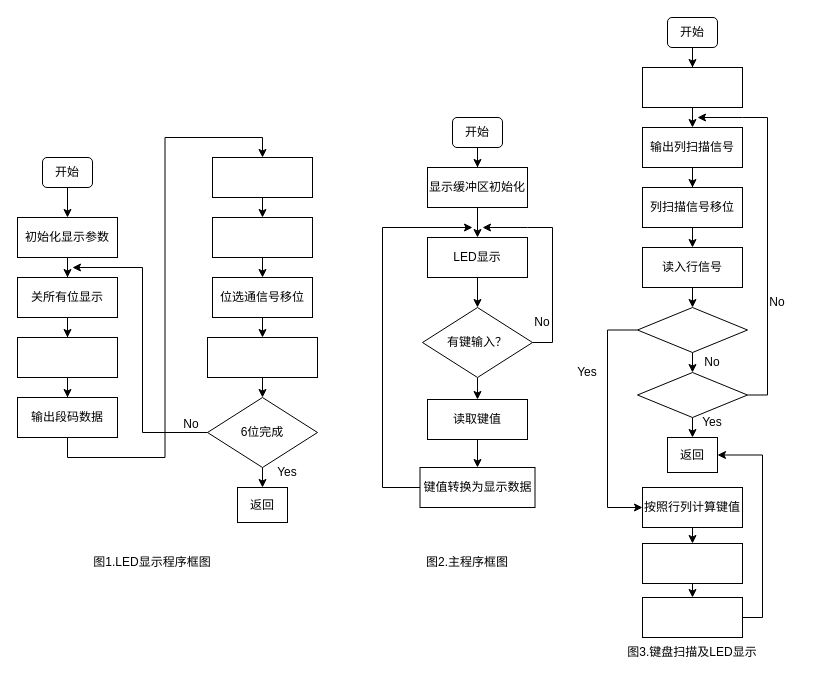
This 825x685 diagram has some shape labels left out. Here are the shapes that lost their labels. From the top down, the centre of each, then its label:
At (x=692, y=87): "初始化地址参数".
At (x=262, y=177): "输出位选通信号".
At (x=262, y=237): "延时".
At (x=692, y=329): "该列有键输入？".
At (x=67, y=357): "取显示数据".
At (x=262, y=357): "指向下一个显示数据".
At (x=692, y=395): "6列扫描完？".
At (x=692, y=563): "查表得键码".
At (x=692, y=617): "等待按键释放".
